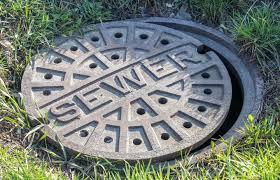closed manhole-not overflowing-: (19, 20, 262, 164)
